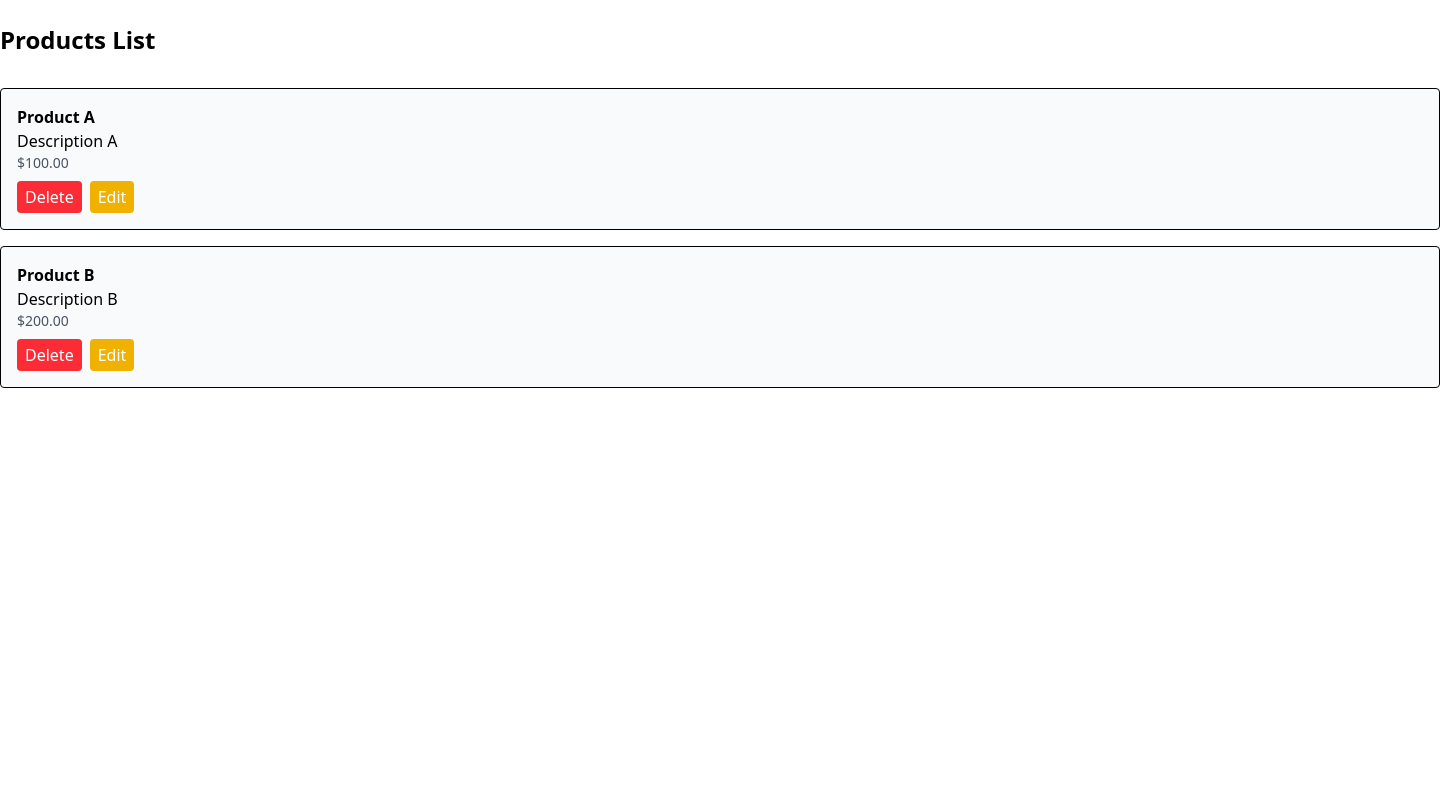
Test case: ItemList component › opens edit modal and updates item
expect the text "Product A" is shown: met, box [17,106,95,128]
Click the button "Edit" below "100.00": (112, 197) [90,181,134,213]
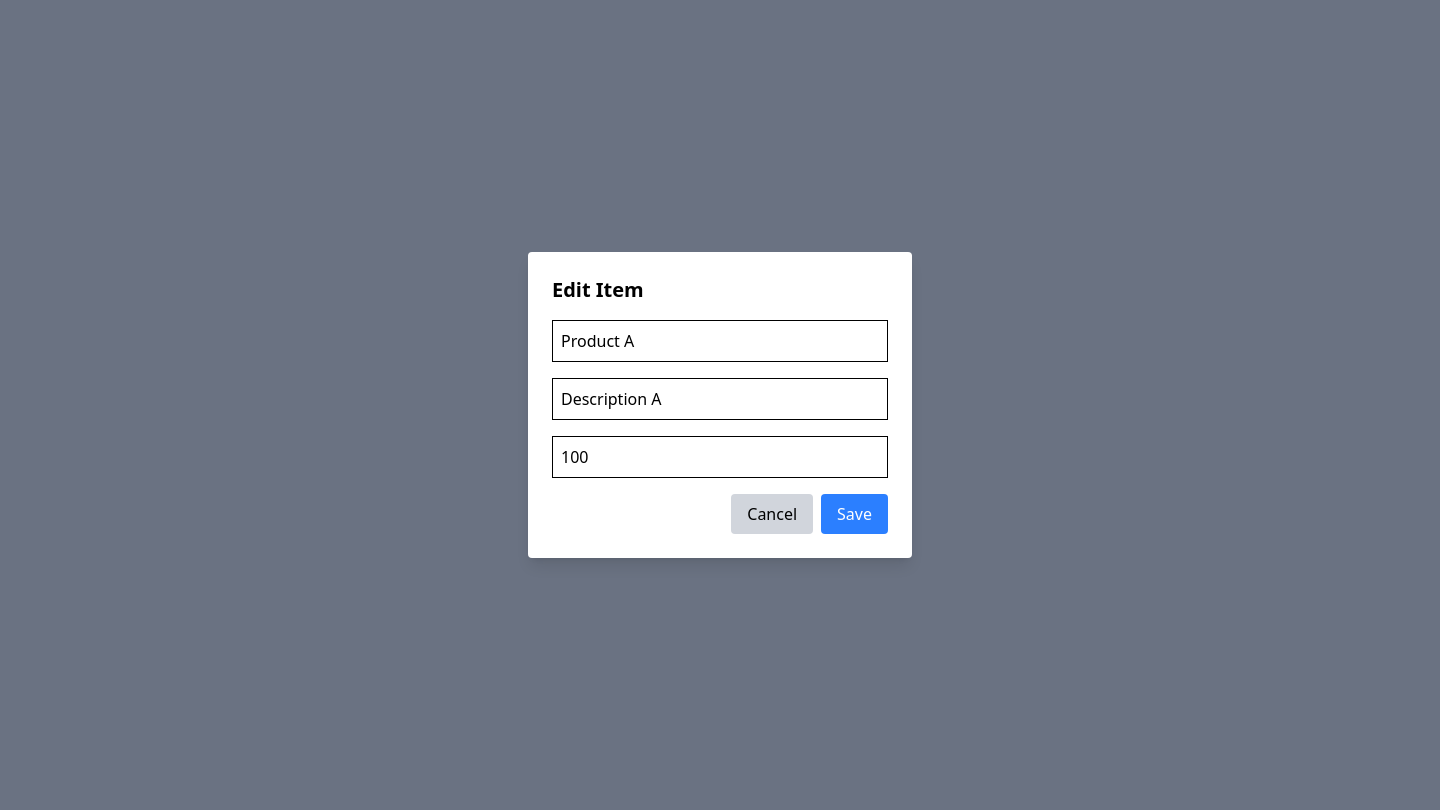
Replace the text in the 1st field showing "Product A" with "Updated A": (720, 341) [552,320,888,362]
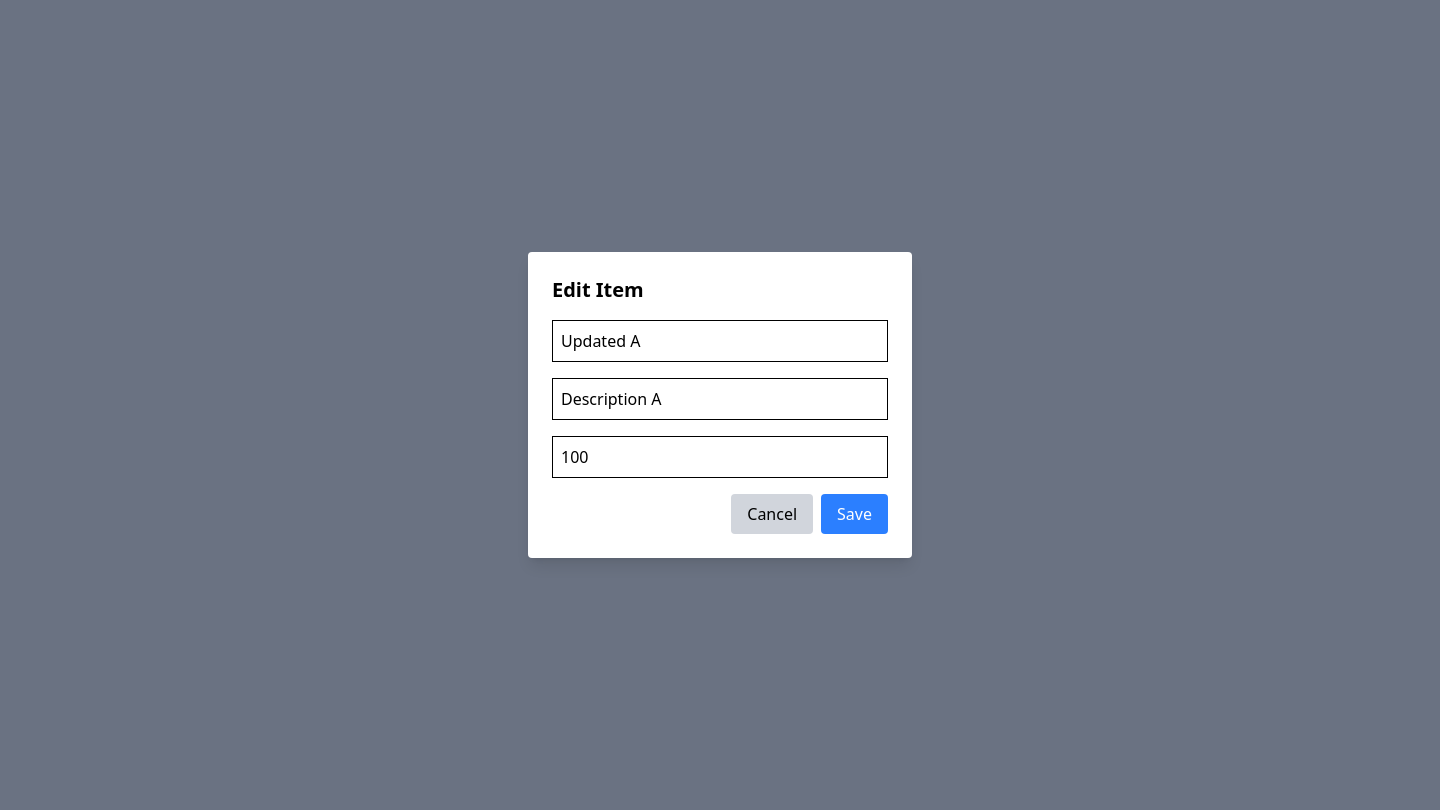
Click the button "Save": (855, 514) [821,494,888,534]
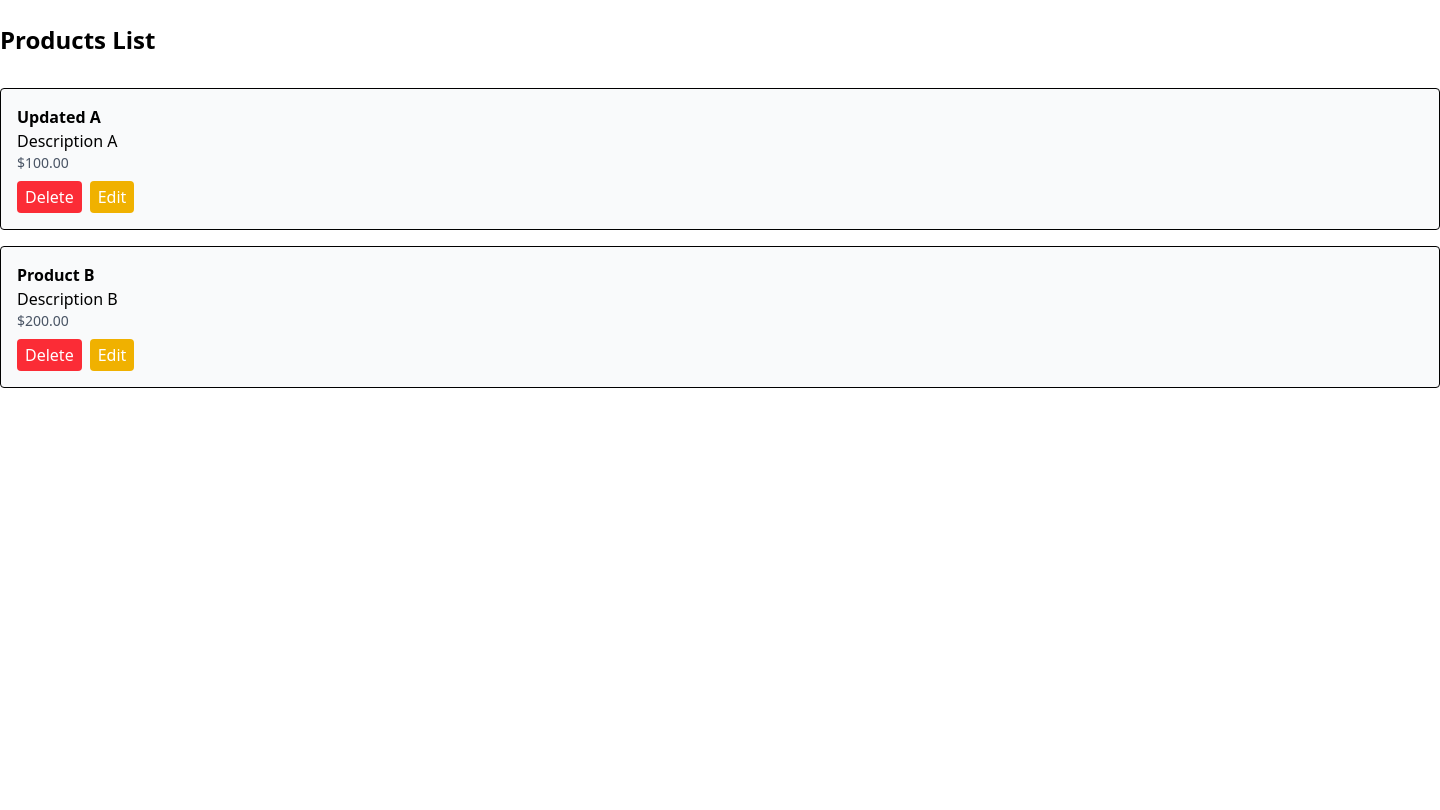
expect the text "Updated A" is shown: met, box [17,106,101,128]
